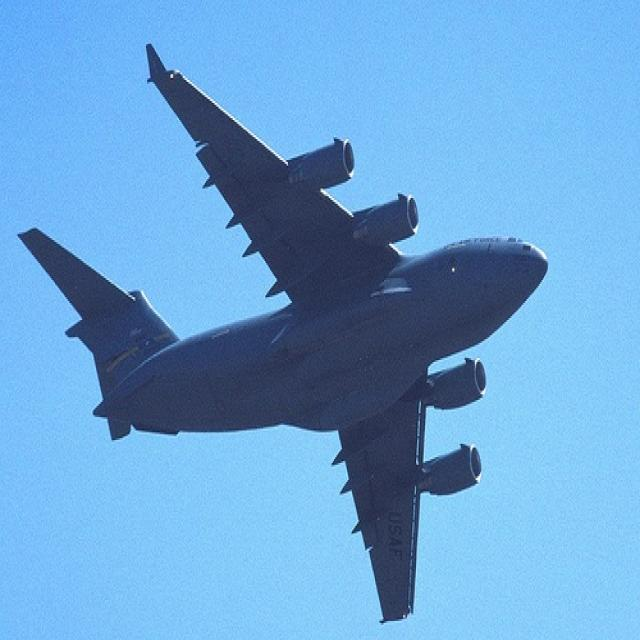aeroplane: (18, 40, 553, 623)
